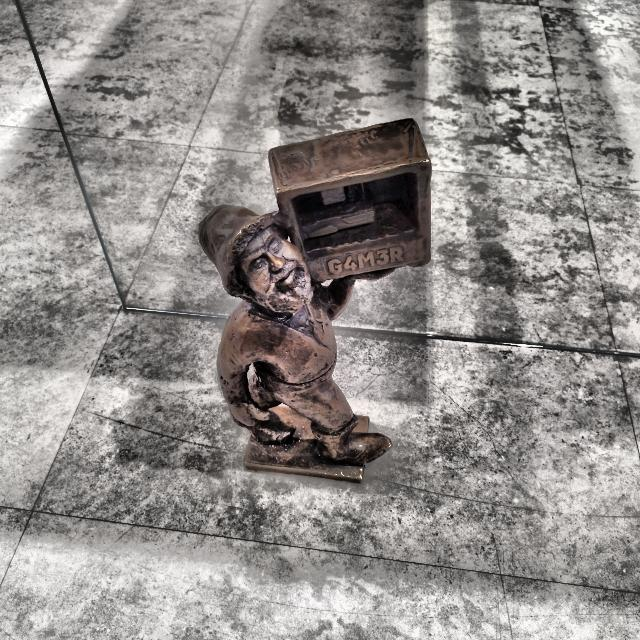GigaHercjusz: (199, 119, 431, 482)
